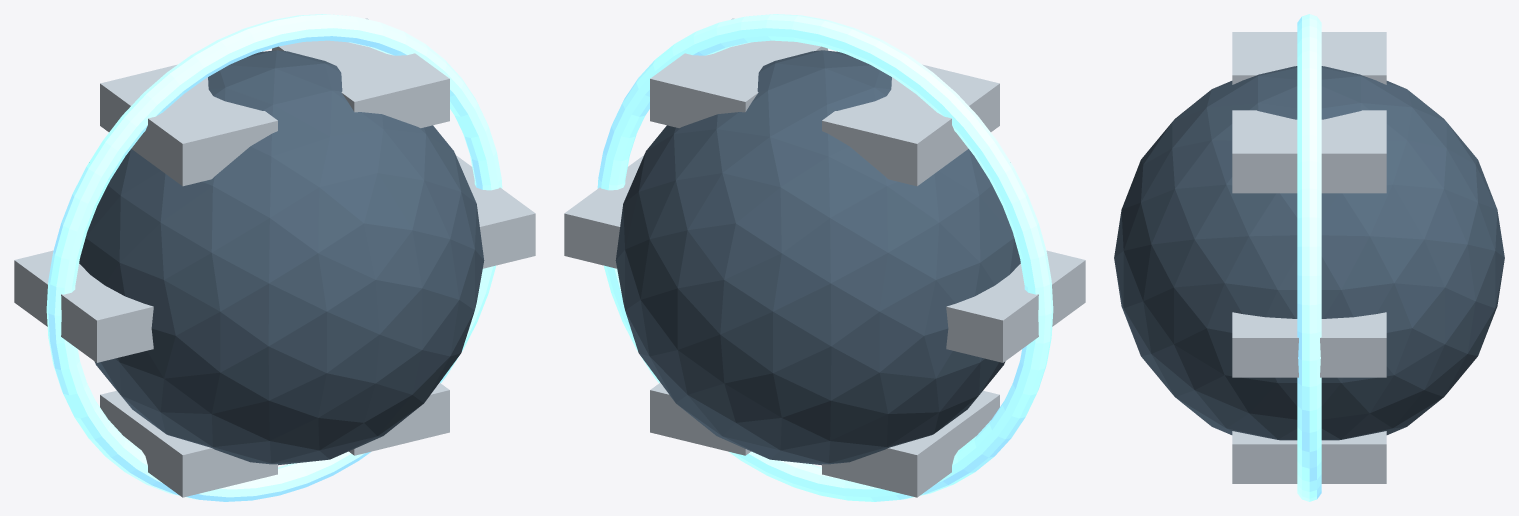
The picture shows the model from 3 angles, left to right: view 1: azimuth 30°, elevation 25°; view 2: azimuth 150°, elevation 25°; view 3: azimuth 270°, elevation 25°; orthographic projection. The views are drawn at different scales.
Visible parts, largest first — view 1: Core0, FieldRing8, Facet4, Facet5, Facet3, Facet6, Facet2, Facet7; view 2: Core0, FieldRing8, Facet4, Facet5, Facet3, Facet6, Facet2, Facet7; view 3: Core0, FieldRing8, Facet3, Facet2, Facet7, Facet4.
Part boxes in pixels (x1,y1,x2,y2): Core0: (79, 50, 484, 465); FieldRing8: (46, 14, 502, 501); Facet4: (100, 64, 277, 186); Facet5: (14, 250, 153, 362); Facet3: (272, 18, 449, 128); Facet6: (100, 390, 277, 497); Facet2: (456, 155, 535, 268); Facet7: (349, 382, 449, 455); Core0: (615, 50, 1020, 465); FieldRing8: (597, 14, 1053, 501); Facet4: (822, 64, 999, 186); Facet5: (946, 250, 1085, 362); Facet3: (650, 18, 827, 128); Facet6: (822, 390, 999, 497); Facet2: (564, 155, 643, 268); Facet7: (650, 382, 750, 455); Core0: (1114, 66, 1504, 440); FieldRing8: (1297, 14, 1321, 501); Facet3: (1232, 110, 1386, 193); Facet2: (1232, 312, 1386, 377); Facet7: (1232, 431, 1386, 483); Facet4: (1232, 32, 1386, 84).
Bounding box in the file's own units: 1.9 × 1.9 × 1.52.
